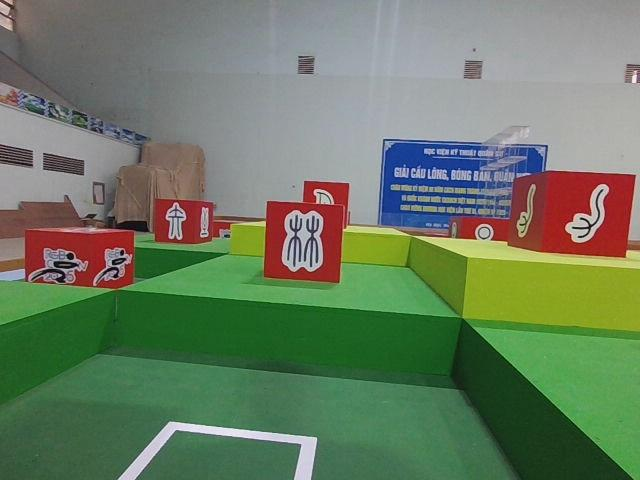R1: (22, 223, 137, 297)
R2 Fake: (262, 197, 347, 286), (151, 194, 217, 246)
R2 Real: (506, 166, 638, 261)
